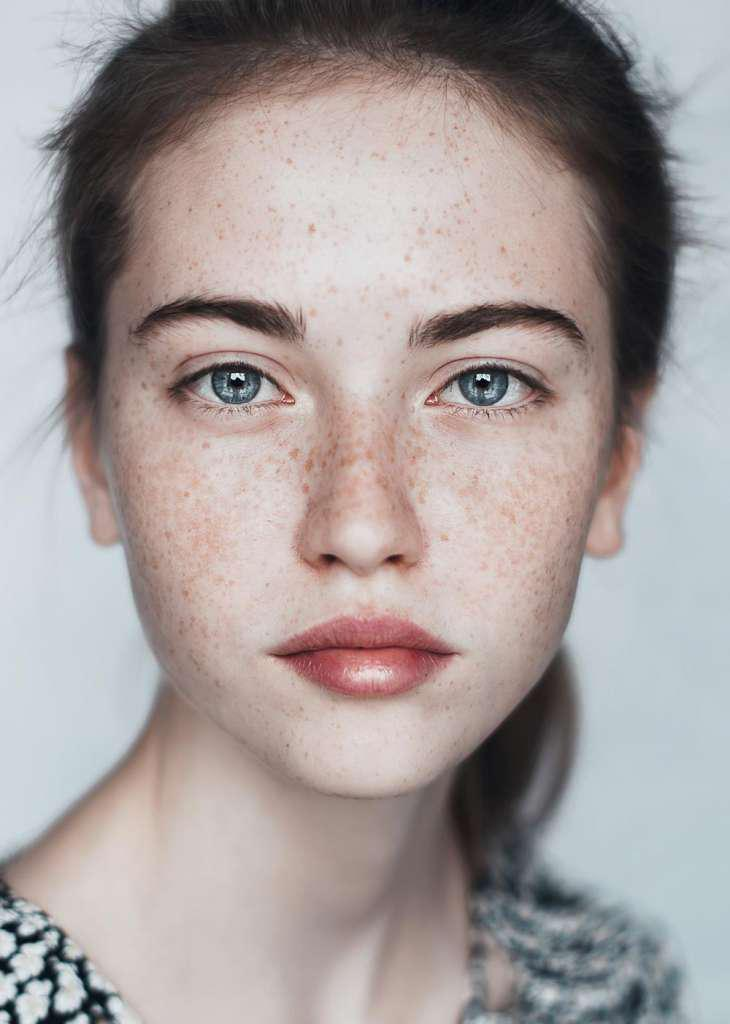Sober: (141, 146, 589, 745)
